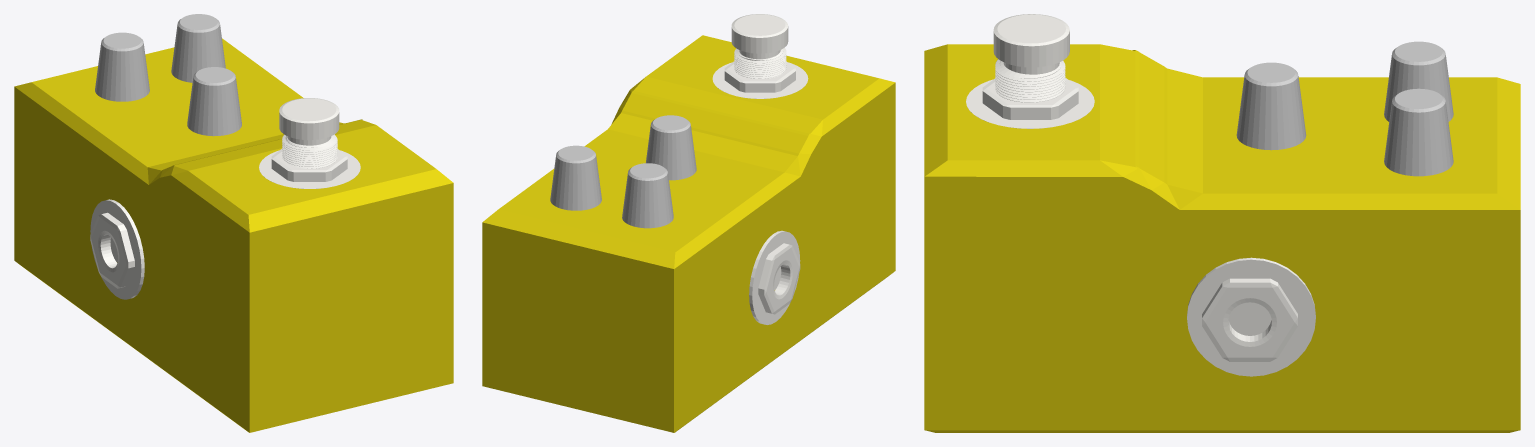
Rendered from phaser.gltf.
3 views of the same model, side by side, from view 1: azimuth 30°, elevation 25°; view 2: azimuth 150°, elevation 25°; view 3: azimuth 270°, elevation 25° (orthographic). The views are drawn at different scales.
Parts seen in each view (by area): view 1: Phaser; view 2: Phaser; view 3: Phaser.
Boxes of the visible parts, left/top/right/bottom form: Phaser: left=14, top=14, right=453, bottom=432; Phaser: left=482, top=14, right=895, bottom=432; Phaser: left=924, top=14, right=1520, bottom=432.
Bounding box in the file's own units: 2.2 × 2.54 × 4.
